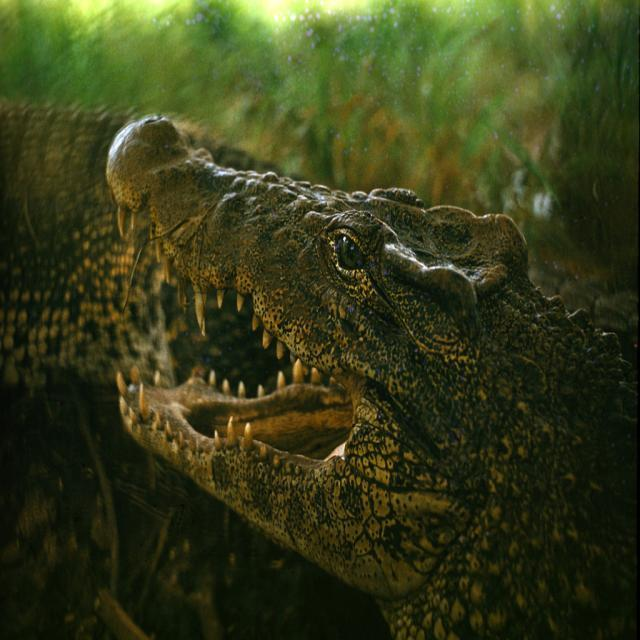crocodile: (3, 103, 635, 632)
